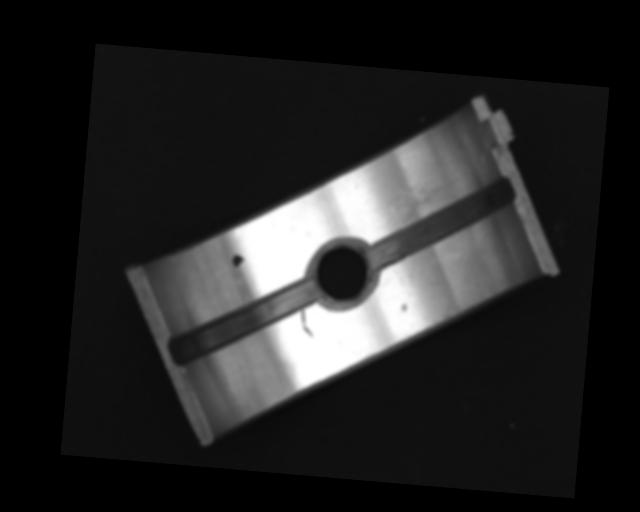blot: (230, 254, 245, 270)
bruise: (400, 301, 408, 312)
gap: (366, 166, 515, 280), (169, 270, 313, 374)
hole: (306, 239, 378, 310)
nick: (298, 308, 315, 337)
scratch: (391, 171, 461, 232)
